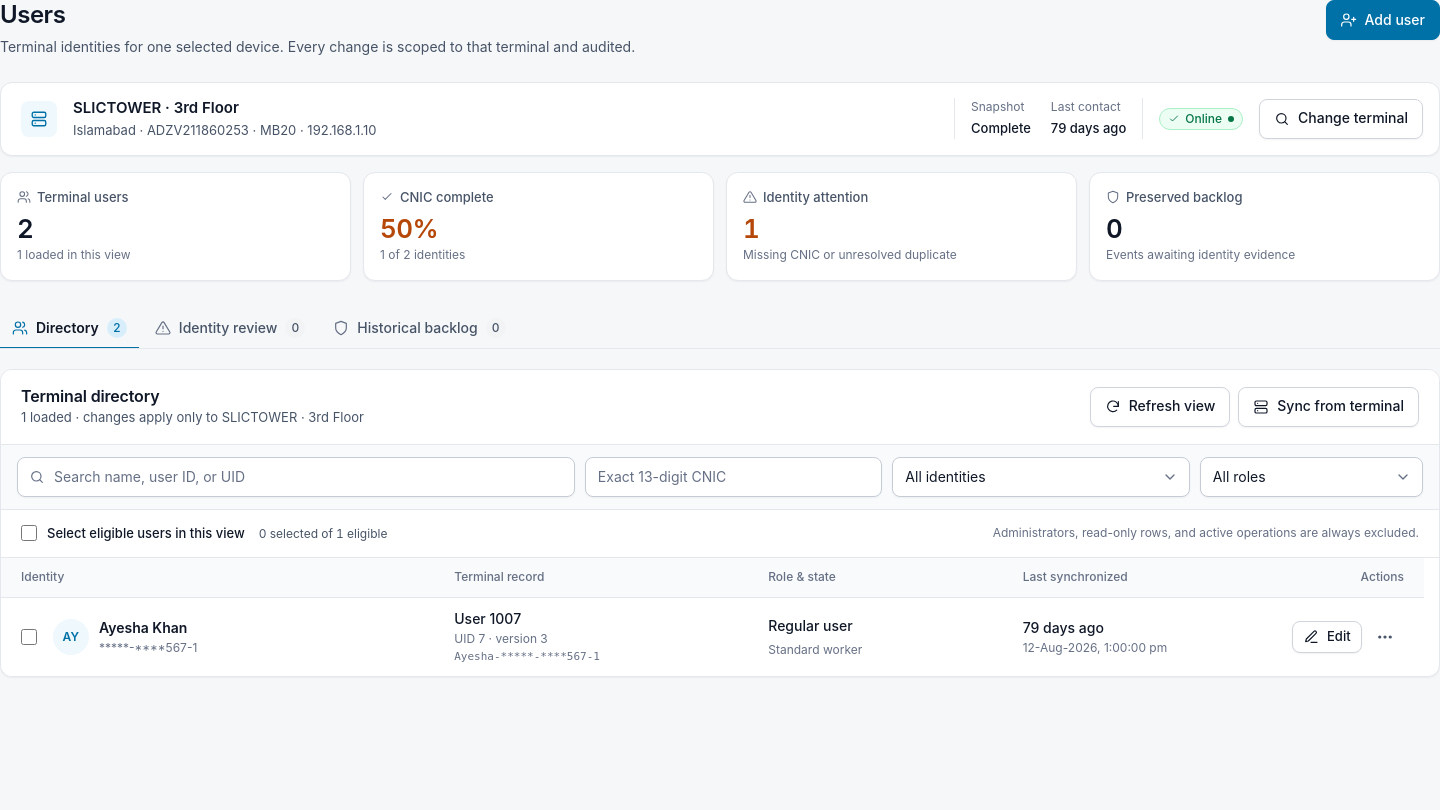
Test: Selected-terminal users workspace › ignores a superseded directory response and requires an actual edit before enabling submit
Expected: the element "Ayesha Khan" is shown, [1,598,1424,676]
In the field named "Search user name": (296, 477) [17,457,575,497], type "slow"
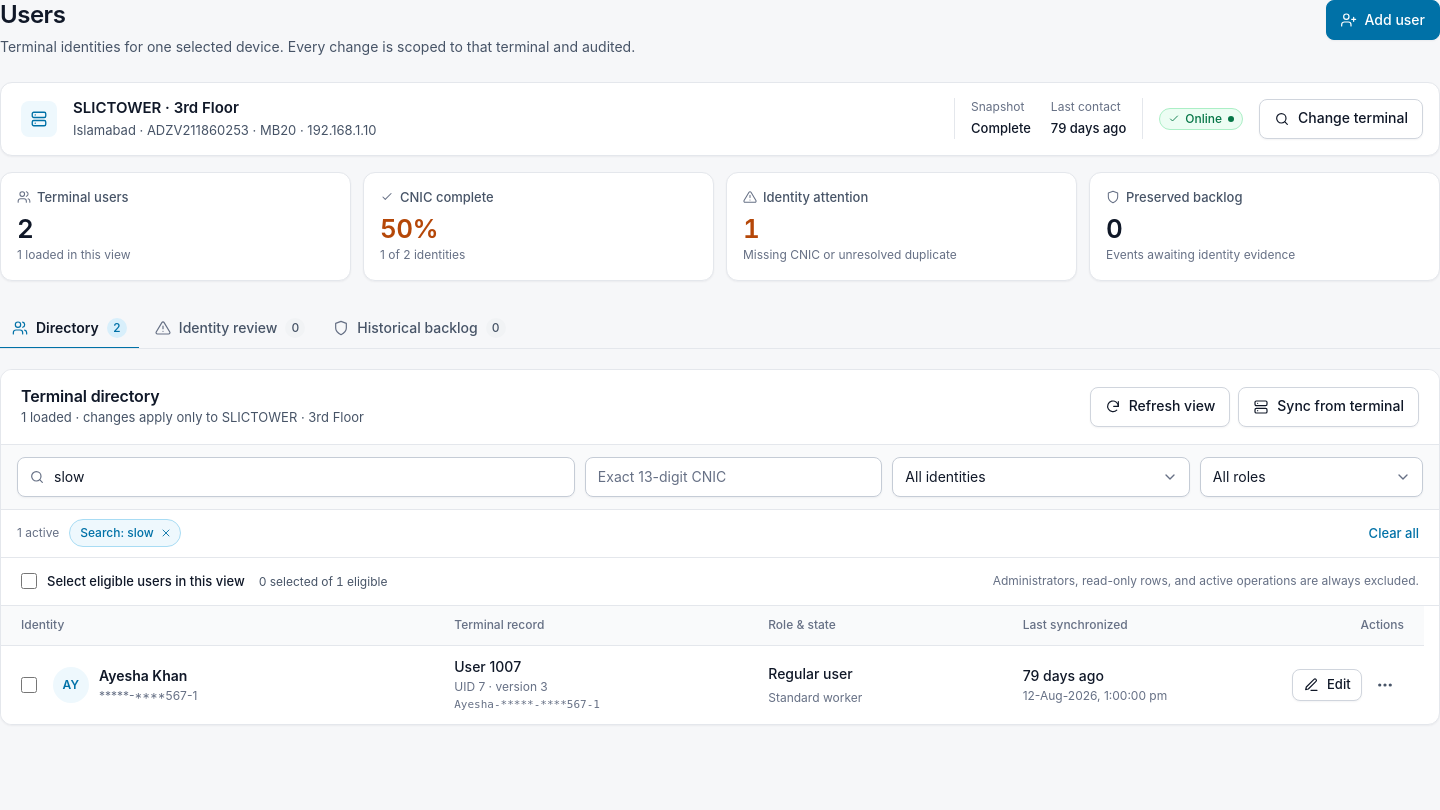
Replace the text in the field named "Search user name" with "fast": (296, 477) [17,457,575,497]
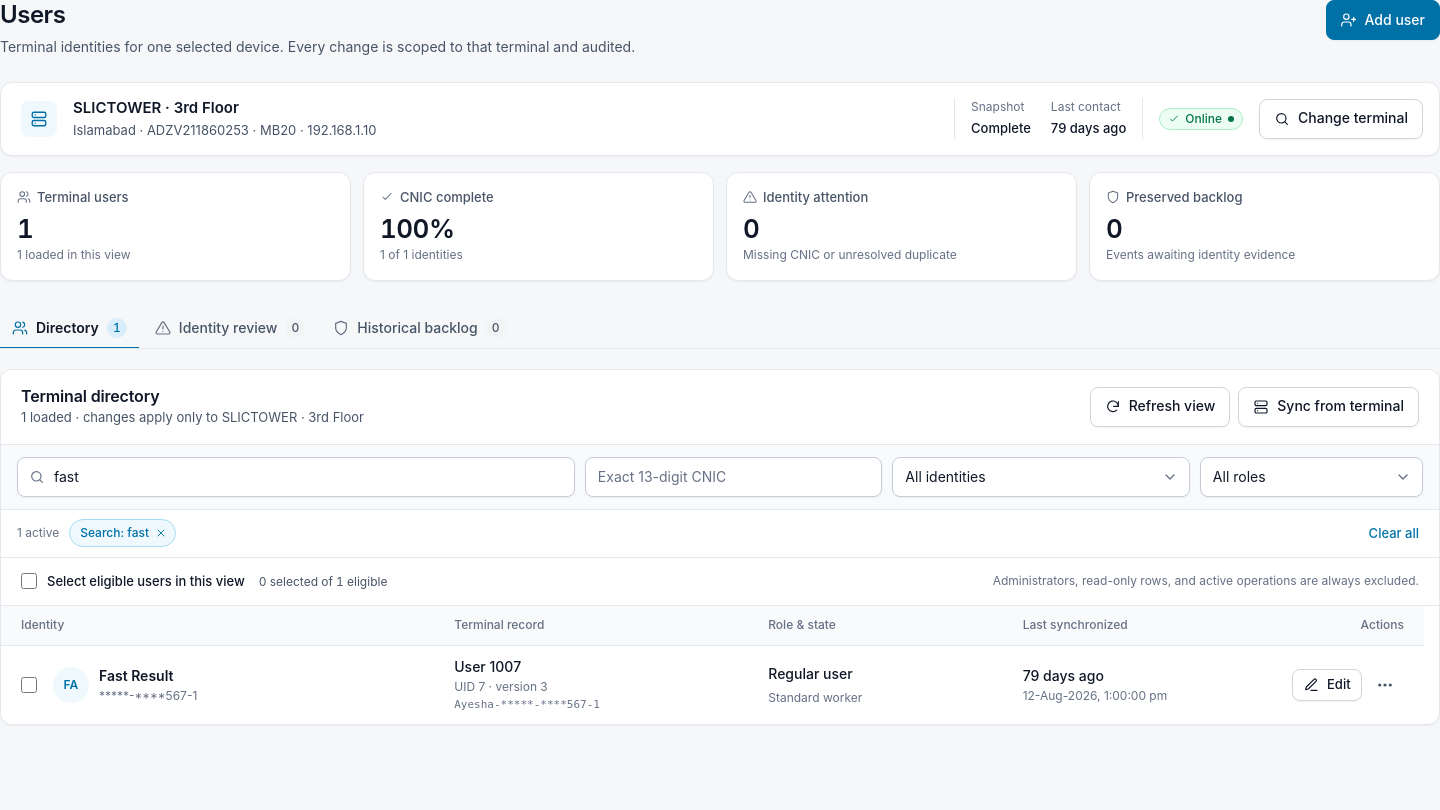
Expected: the element "Fast Result" is shown, [1,646,1424,724]
Click the button with aria-label "Edit Fast Result": (1327, 685) [1292,669,1362,701]
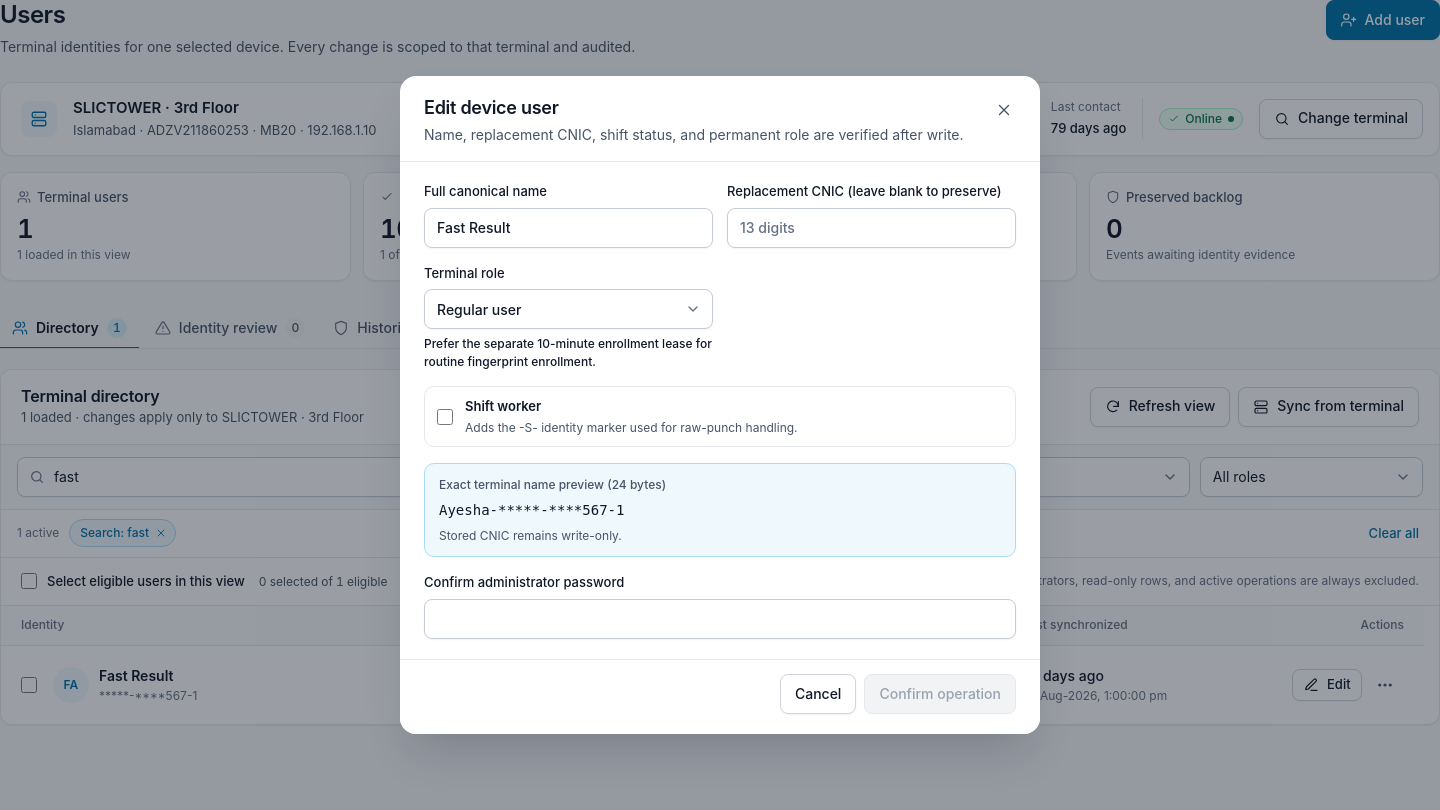
In the password field labelled "Confirm administrator password": (720, 619) [424,599,1016,639], type "password"
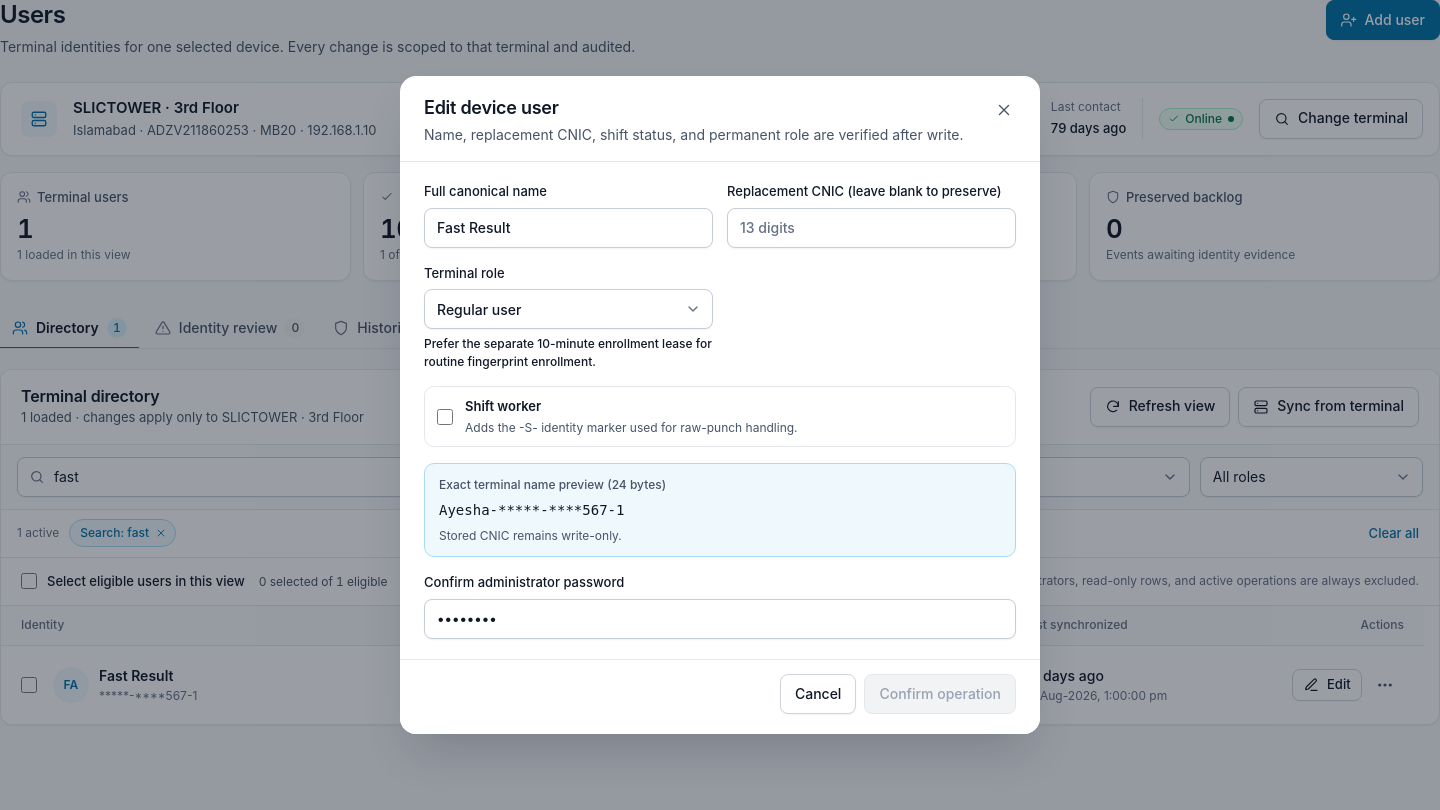
Expected: the button "Confirm operation" is disabled, [864,674,1016,714]
Replace the text in the field labelled "Full canonical name" with "Fast Result Updated": (568, 228) [424,208,713,248]
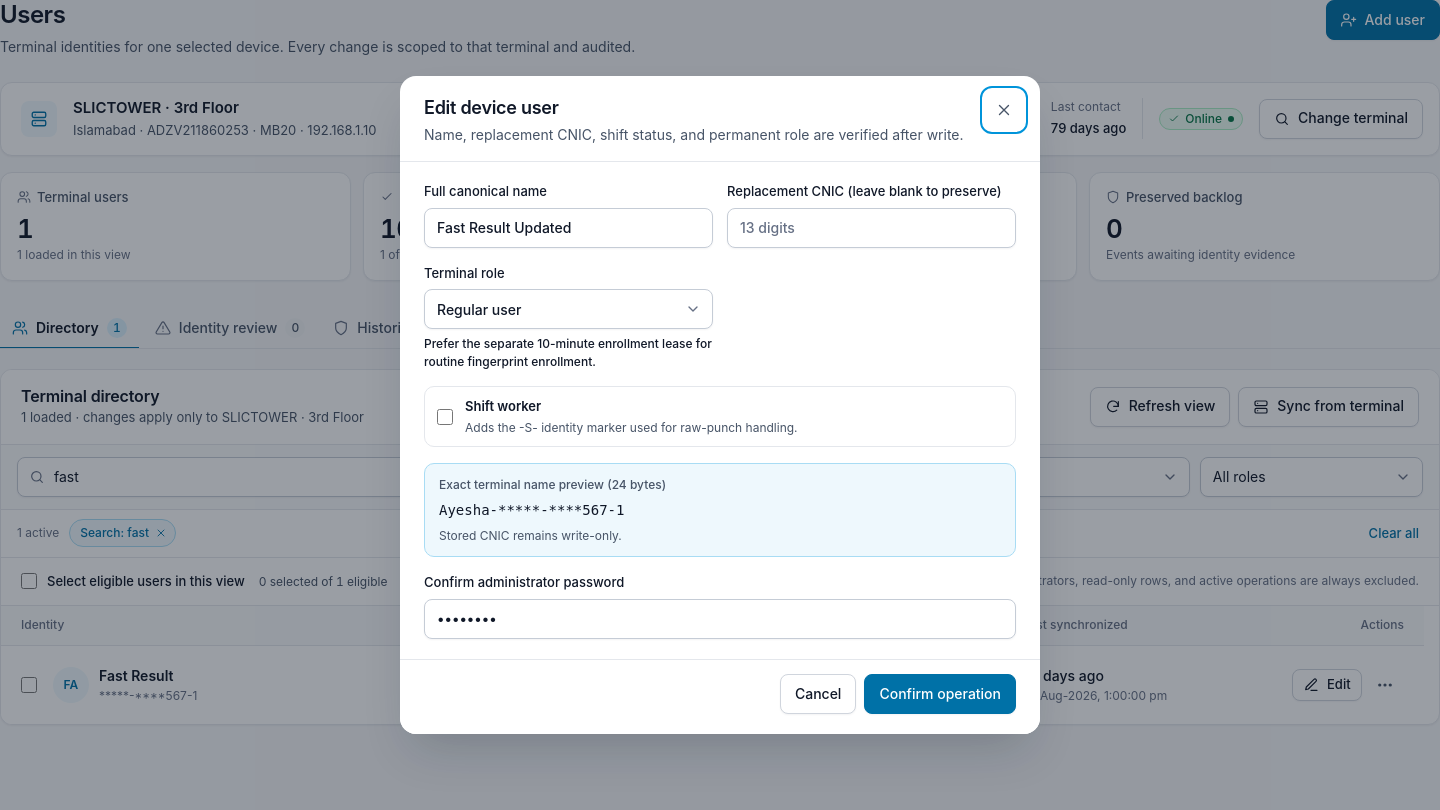
Expected: the button "Confirm operation" is enabled, [864,674,1016,714]
